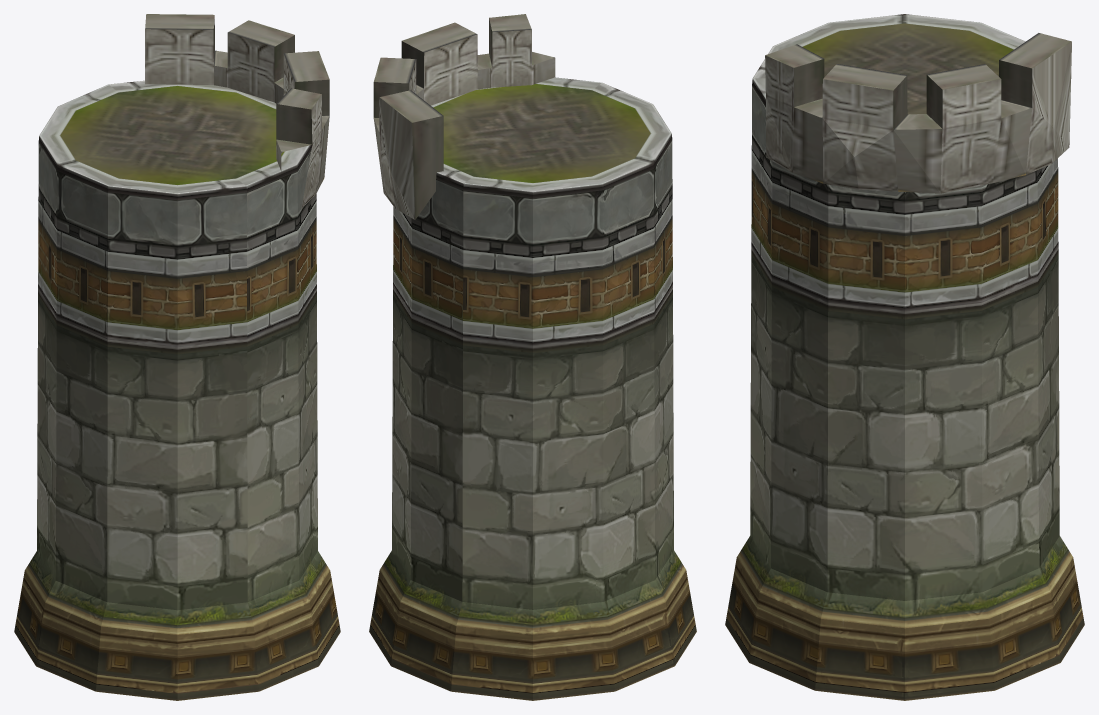
Rendered from DN_mcwall06.FBX.
3 views of the same model, side by side, from view 1: azimuth 30°, elevation 25°; view 2: azimuth 150°, elevation 25°; view 3: azimuth 270°, elevation 25° (orthographic). The views are drawn at different scales.
Visible parts, largest first — view 1: DN_mcwall06; view 2: DN_mcwall06; view 3: DN_mcwall06.
Part boxes in pixels (left/top/right/bottom): DN_mcwall06: left=14, top=14, right=340, bottom=700; DN_mcwall06: left=369, top=14, right=696, bottom=700; DN_mcwall06: left=725, top=14, right=1084, bottom=700.
Size of the model in its own units: 706 by 1315 by 706.
Materials: 1 (1 with a texture image).
